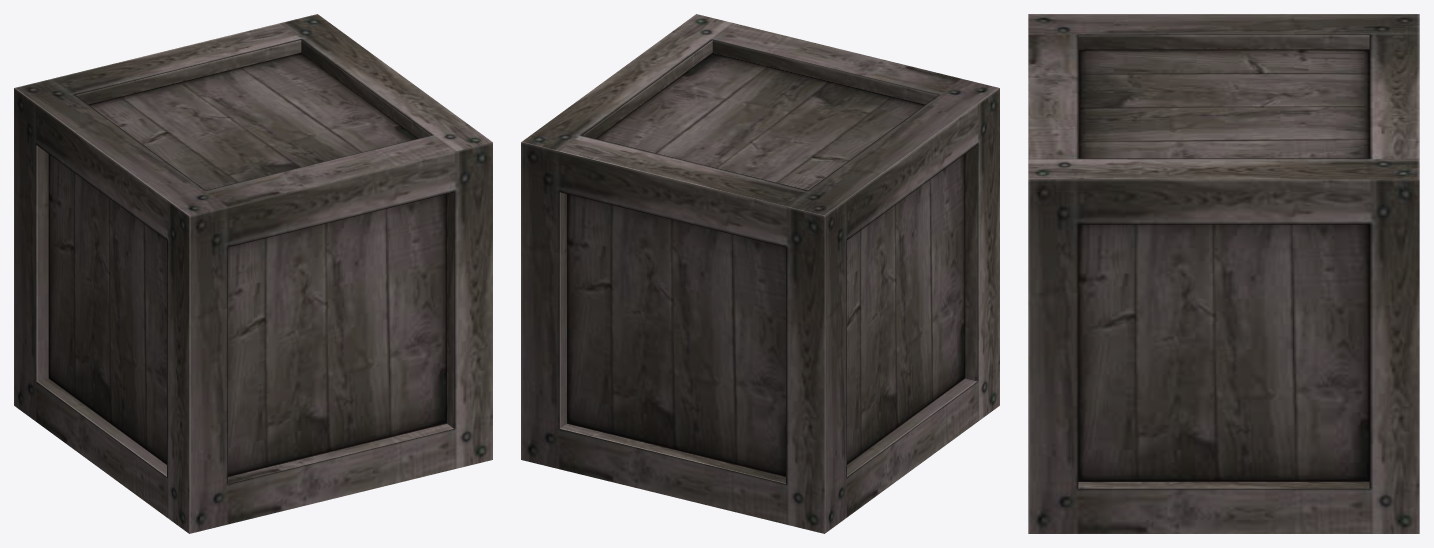
The model's file is Crate.FBX.
3 renders of one model, left to right at view 1: azimuth 30°, elevation 25°; view 2: azimuth 150°, elevation 25°; view 3: azimuth 270°, elevation 25°, orthographic. The views are drawn at different scales.
Visible parts, largest first — view 1: Box001; view 2: Box001; view 3: Box001.
Boxes of the visible parts, left/top/right/bottom form: Box001: left=14, top=14, right=492, bottom=533; Box001: left=521, top=14, right=999, bottom=533; Box001: left=1028, top=14, right=1419, bottom=533.
Size of the model in its own units: 77.79 by 77.79 by 77.79.
1 material, 1 textured.
